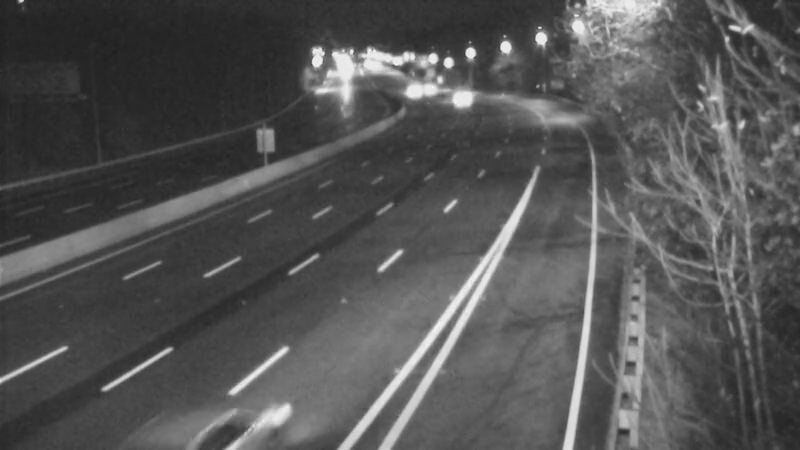vehicle: (409, 66, 459, 116), (385, 63, 435, 113), (430, 73, 480, 123)
